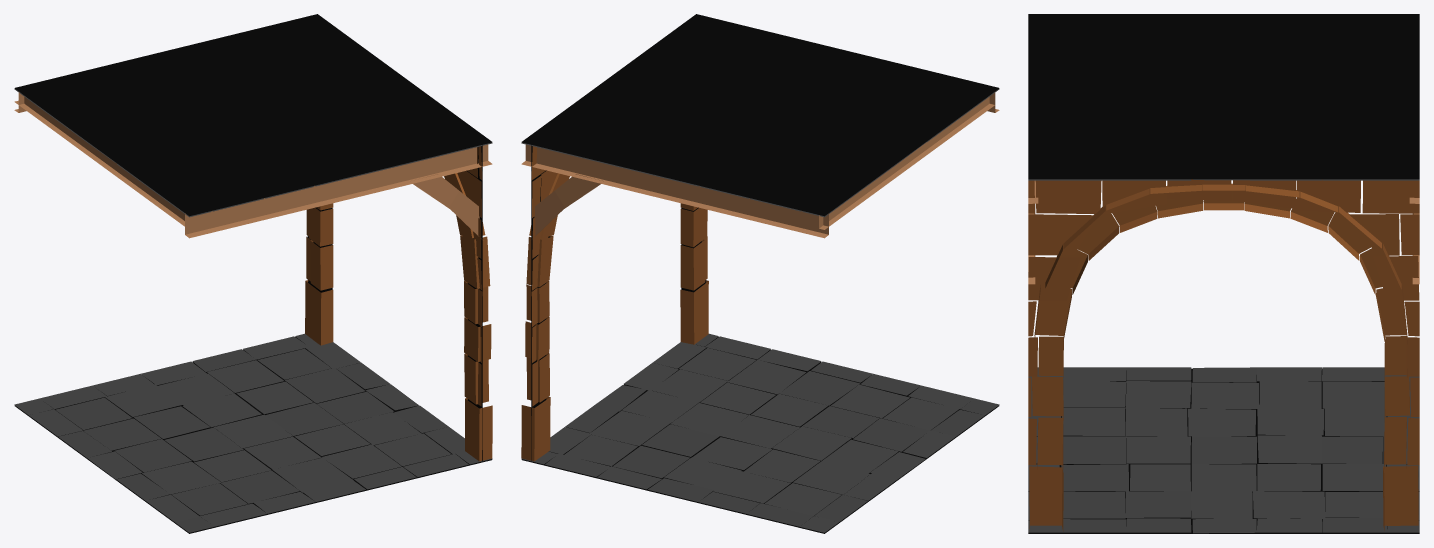
File: wall_6_door.glb
The picture shows the model from 3 angles, left to right: view 1: azimuth 30°, elevation 25°; view 2: azimuth 150°, elevation 25°; view 3: azimuth 270°, elevation 25°; orthographic projection. The views are drawn at different scales.
Visible parts, largest first — view 1: wall_6_door; view 2: wall_6_door; view 3: wall_6_door.
Part boxes in pixels (x1,y1,x2,y2): wall_6_door: (14,14,492,533); wall_6_door: (521,14,999,533); wall_6_door: (1028,14,1419,533).
Size of the model in its own units: 3 by 3 by 3.
Materials: 1 (1 with a texture image).
